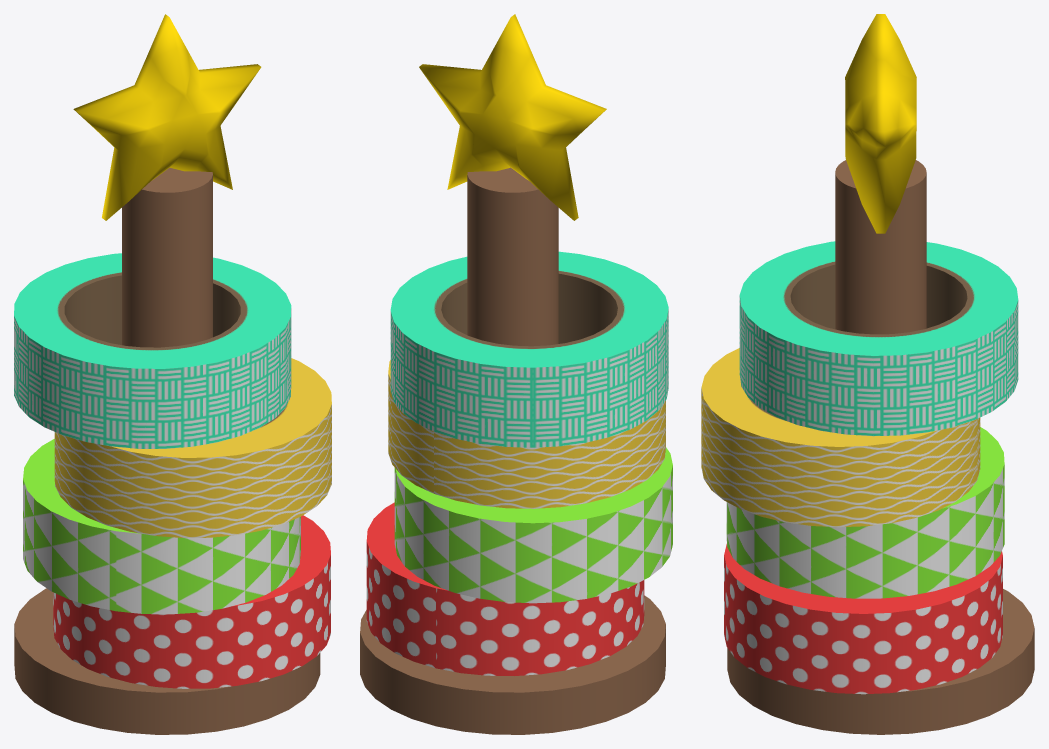
The model's file is goalPiece.obj.
The picture shows the model from 3 angles, left to right: view 1: azimuth 30°, elevation 25°; view 2: azimuth 150°, elevation 25°; view 3: azimuth 270°, elevation 25°; orthographic projection.
Visible parts, largest first — view 1: 円柱.001; view 2: 円柱.001; view 3: 円柱.001.
Part boxes in pixels (x1=…): 円柱.001: x1=14, y1=14, x2=331, y2=734; 円柱.001: x1=360, y1=14, x2=672, y2=734; 円柱.001: x1=701, y1=14, x2=1034, y2=734.
Size of the model in its own units: 2.06 by 4.71 by 2.17.
Materials: 6 (6 with a texture image).
